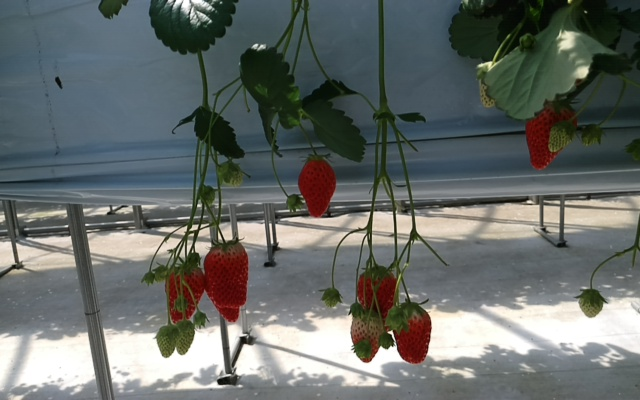GreenStrawberry: (476, 61, 512, 112), (212, 160, 246, 189), (155, 322, 179, 360), (548, 123, 577, 154), (173, 318, 195, 356), (577, 120, 605, 149)
MatureStrawberry: (523, 97, 580, 173), (203, 237, 252, 324), (162, 257, 207, 328), (356, 262, 401, 331), (391, 299, 433, 366), (298, 155, 338, 220), (349, 309, 384, 365)
